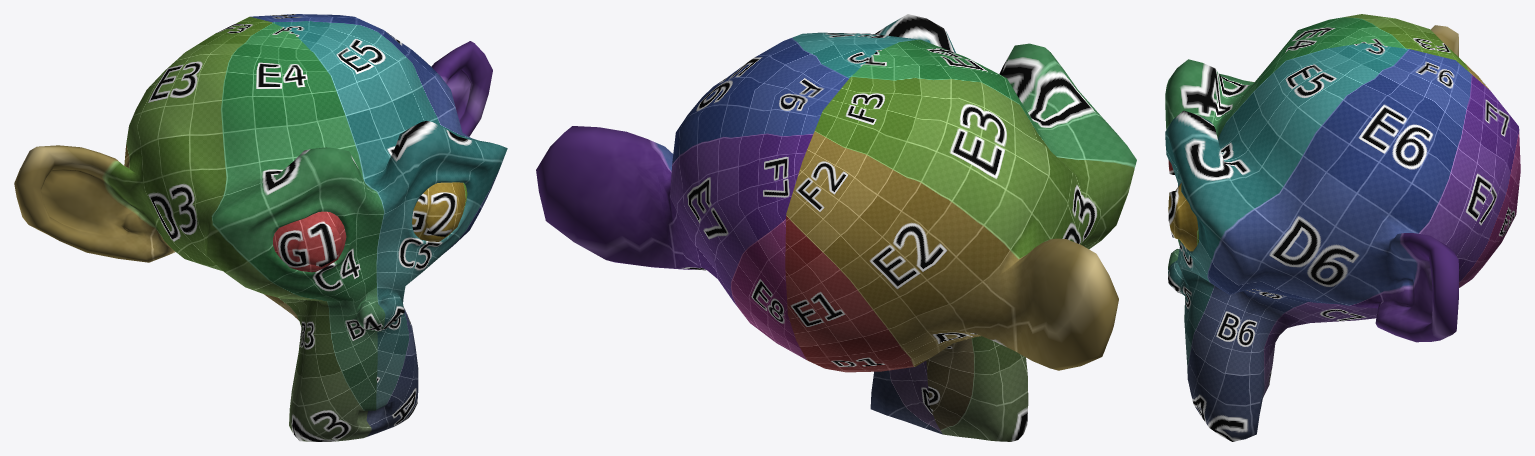
Rendered from materialtest.dae.
The picture shows the model from 3 angles, left to right: view 1: azimuth 30°, elevation 25°; view 2: azimuth 150°, elevation 25°; view 3: azimuth 270°, elevation 25°; orthographic projection. The views are drawn at different scales.
Parts seen in each view (by area): view 1: Monkey; view 2: Monkey; view 3: Monkey.
Boxes of the visible parts, x1,y1,x2,y2 form: Monkey: (14,14,507,441); Monkey: (536,14,1136,441); Monkey: (1165,14,1520,441).
Bounding box in the file's own units: 2.7 × 1.66 × 1.95.
Materials: 2 (2 with a texture image).
